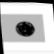correct: (12, 16, 38, 40)
